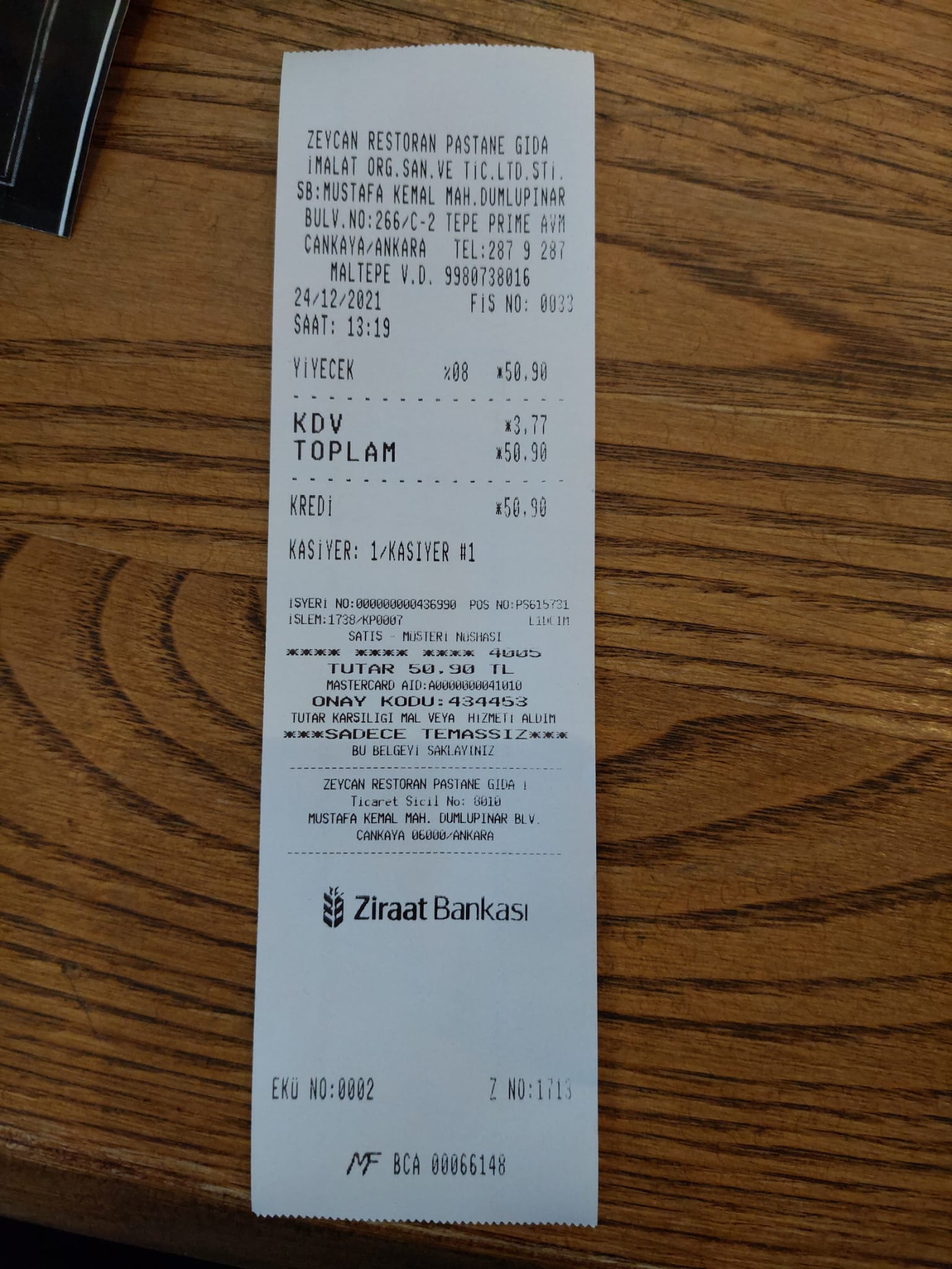date: (497, 439, 562, 473)
price: (288, 280, 389, 313)
workplace: (292, 121, 582, 210)
